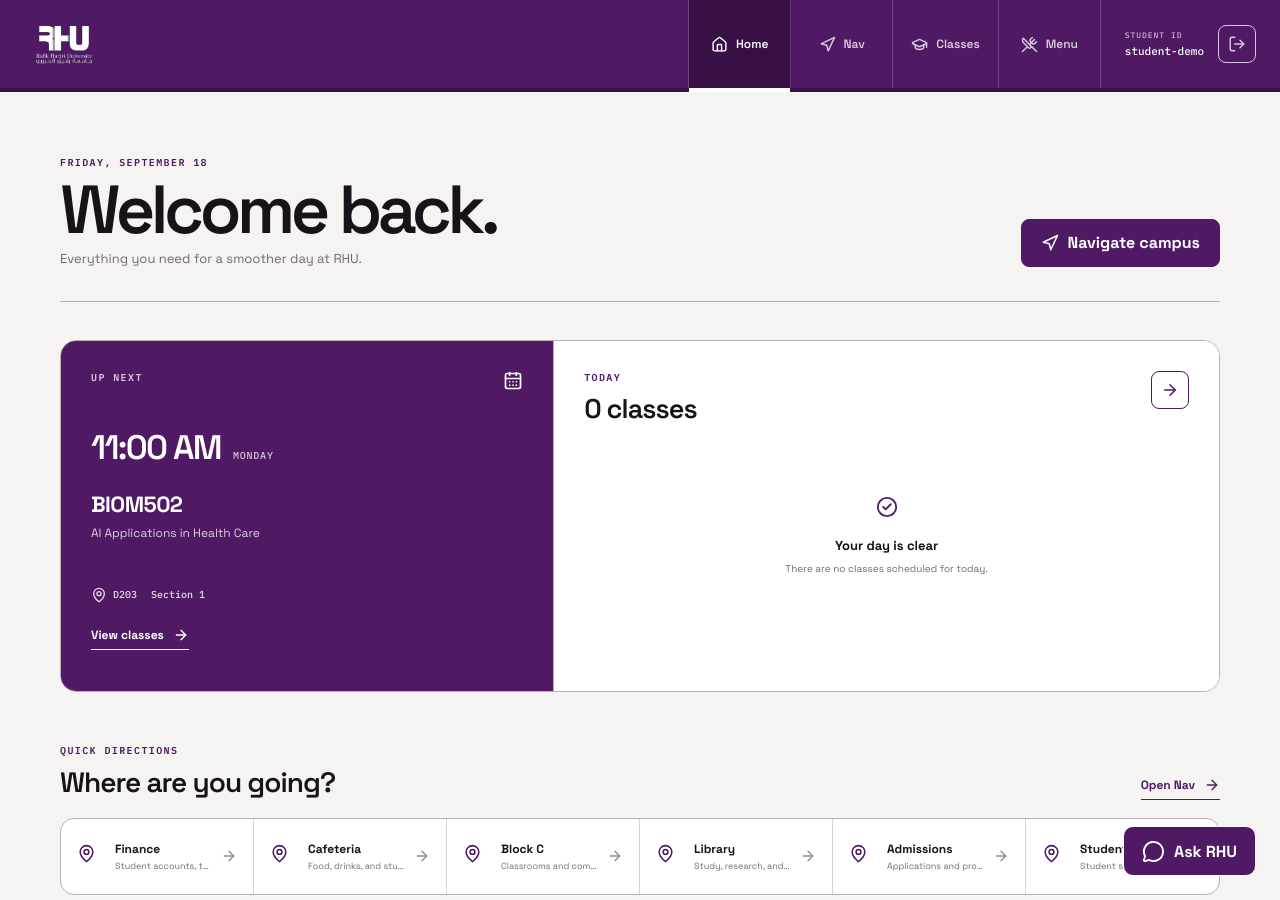
Test: RHU student experience › clears schedule and chat session data on logout
Step 1. Click the button named "Log out" → (1237, 44), box [1218,25,1256,63]
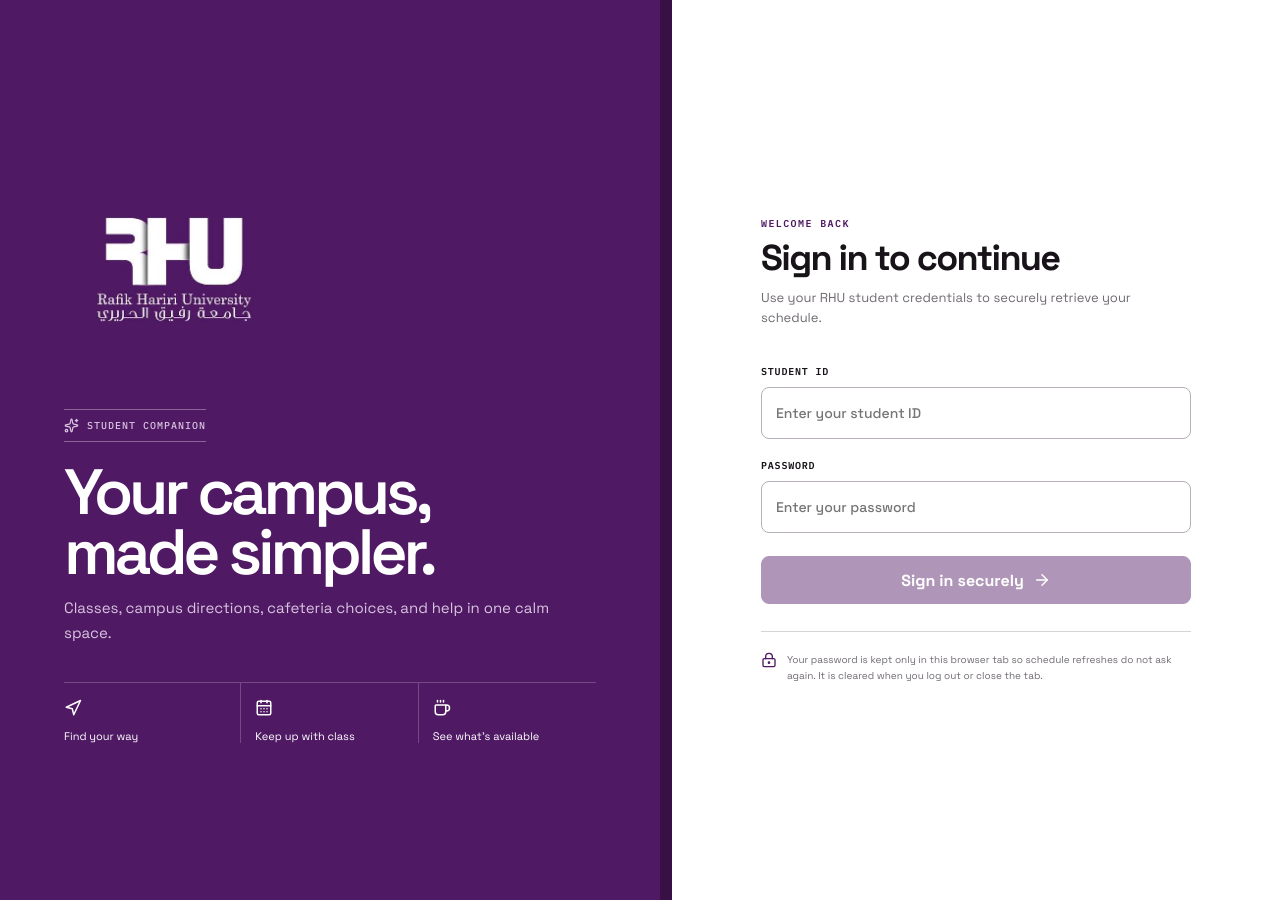
Check: the heading "Sign in to continue" is shown, box [761,235,1059,281]
